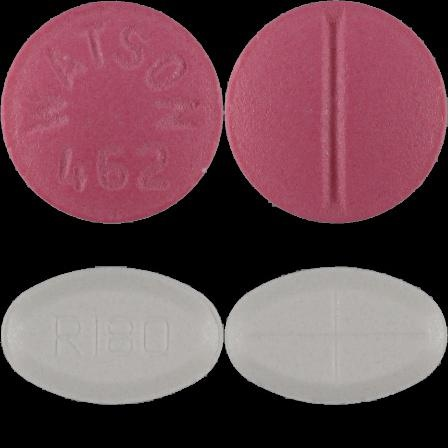10544-879: (0, 0, 224, 224)
